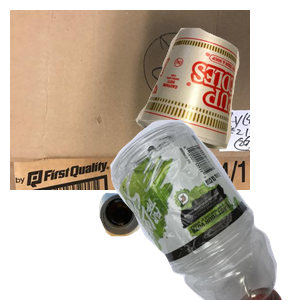cardboard: (10, 10, 250, 190)
glass: (96, 190, 230, 300)
plastic: (73, 120, 300, 300)
trash: (133, 25, 300, 167)
